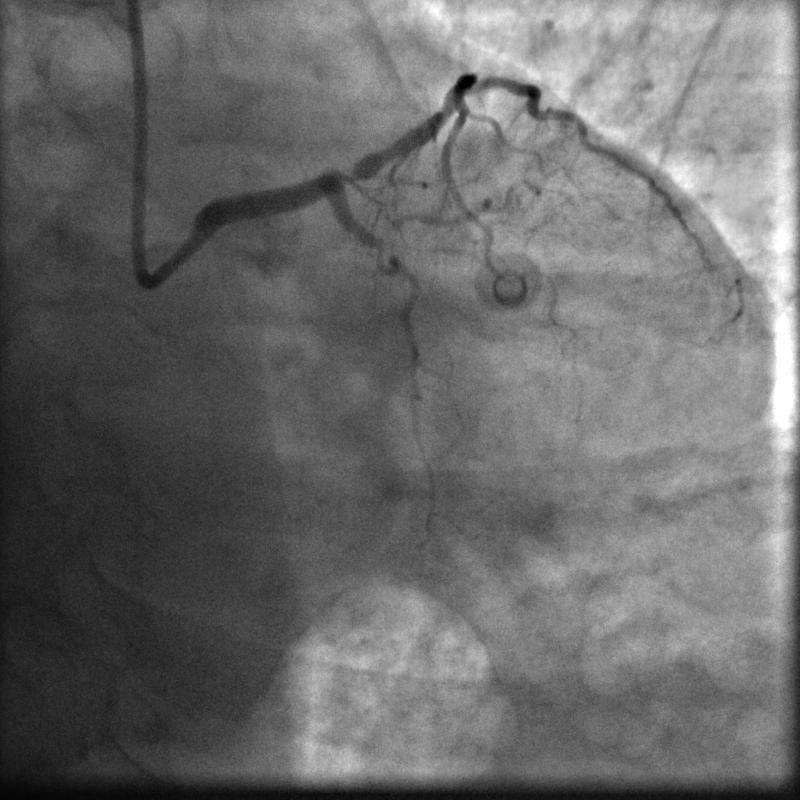Stenosis: (328, 155, 370, 187)
